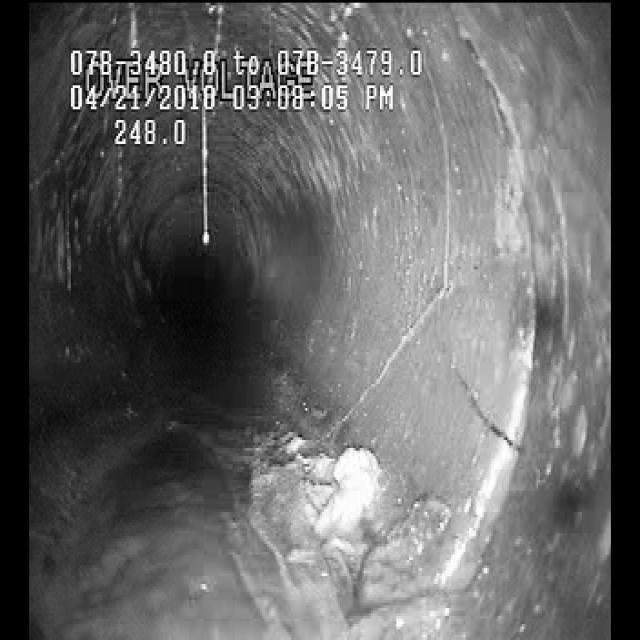Crack: (340, 266, 472, 428)
